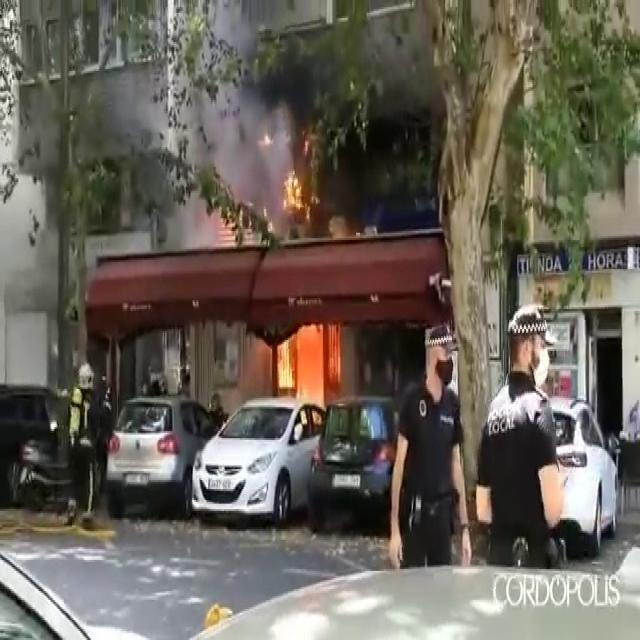Fire: (276, 322, 331, 409)
Smoke: (2, 0, 286, 235)
